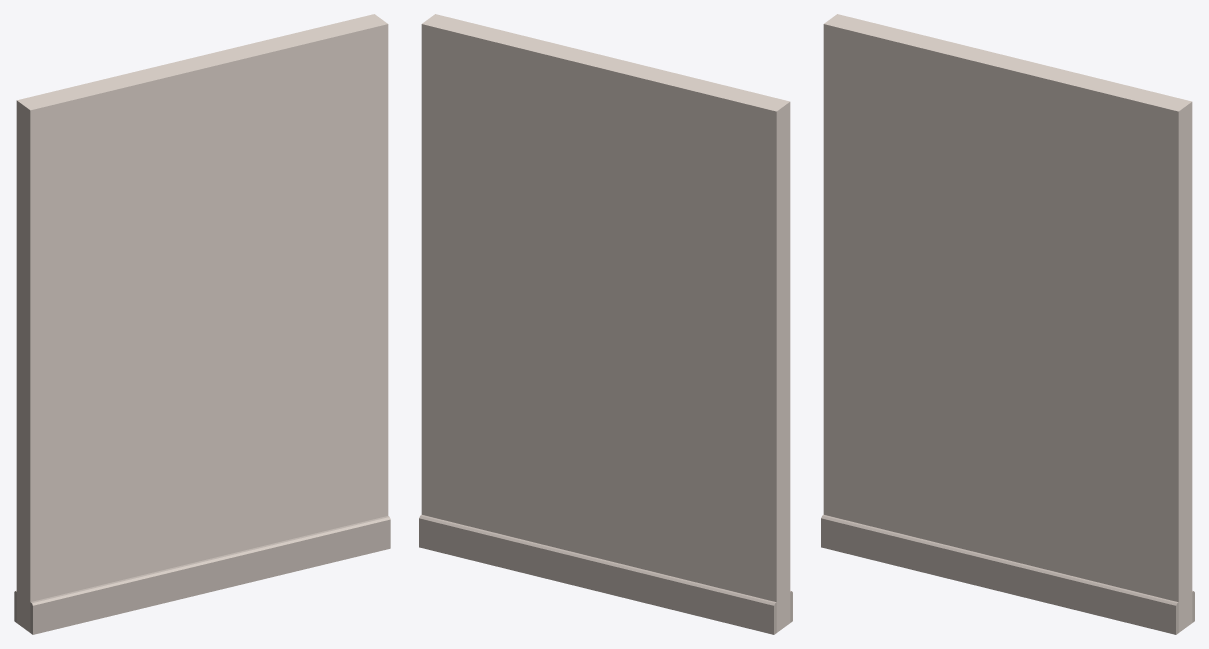
Rendered from WallDoubleSkirtingLarge.fbx.
The picture shows the model from 3 angles, left to right: view 1: azimuth 30°, elevation 25°; view 2: azimuth 150°, elevation 25°; view 3: azimuth 330°, elevation 25°; orthographic projection.
Visible parts, largest first — view 1: Wall_Both_Skirting150; view 2: Wall_Both_Skirting150; view 3: Wall_Both_Skirting150.
Part boxes in pixels (x1,y1,x2,y2): Wall_Both_Skirting150: (14,14,390,634); Wall_Both_Skirting150: (419,14,792,634); Wall_Both_Skirting150: (821,14,1194,634).
Size of the model in its own units: 180 by 252 by 17.22.
1 material, 1 textured.
